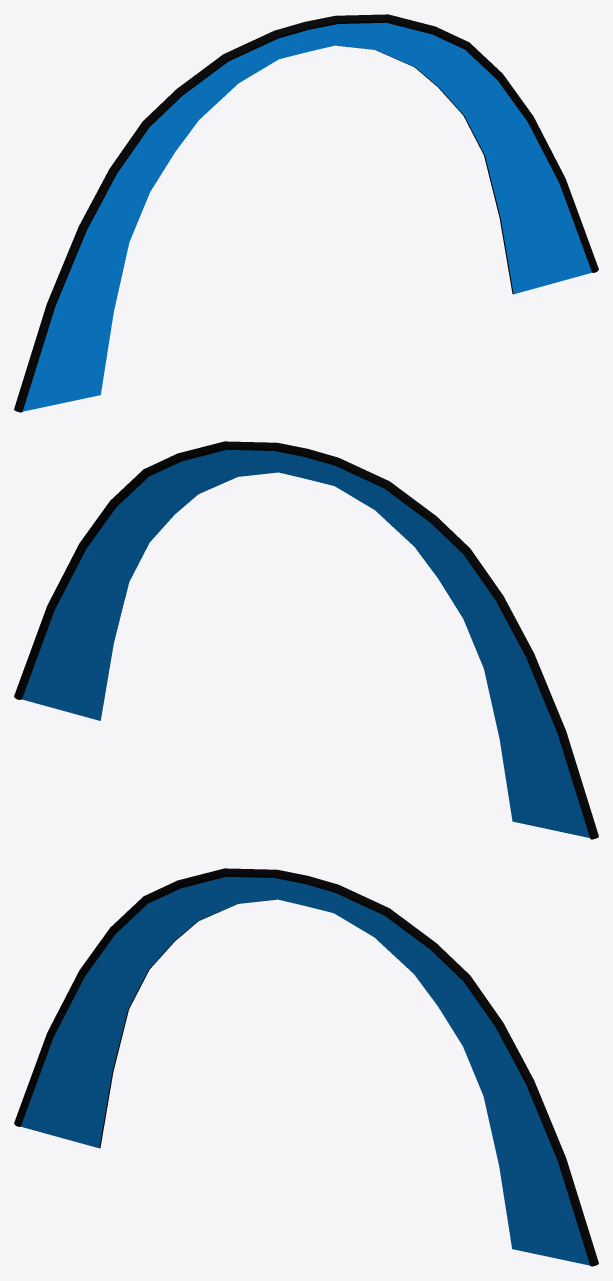
Rendered from gate.gltf.
The picture shows the model from 3 angles, top to bottom: view 1: azimuth 30°, elevation 25°; view 2: azimuth 150°, elevation 25°; view 3: azimuth 330°, elevation 25°; orthographic projection.
Parts seen in each view (by area): view 1: Cylinder; view 2: Cylinder; view 3: Cylinder.
Boxes of the visible parts, box(x1,y1,x2,y2) form: Cylinder: box(14, 14, 598, 412); Cylinder: box(14, 441, 598, 839); Cylinder: box(14, 868, 598, 1266).
Size of the model in its own units: 2.96 by 1.56 by 0.04.
1 material, 1 textured.
